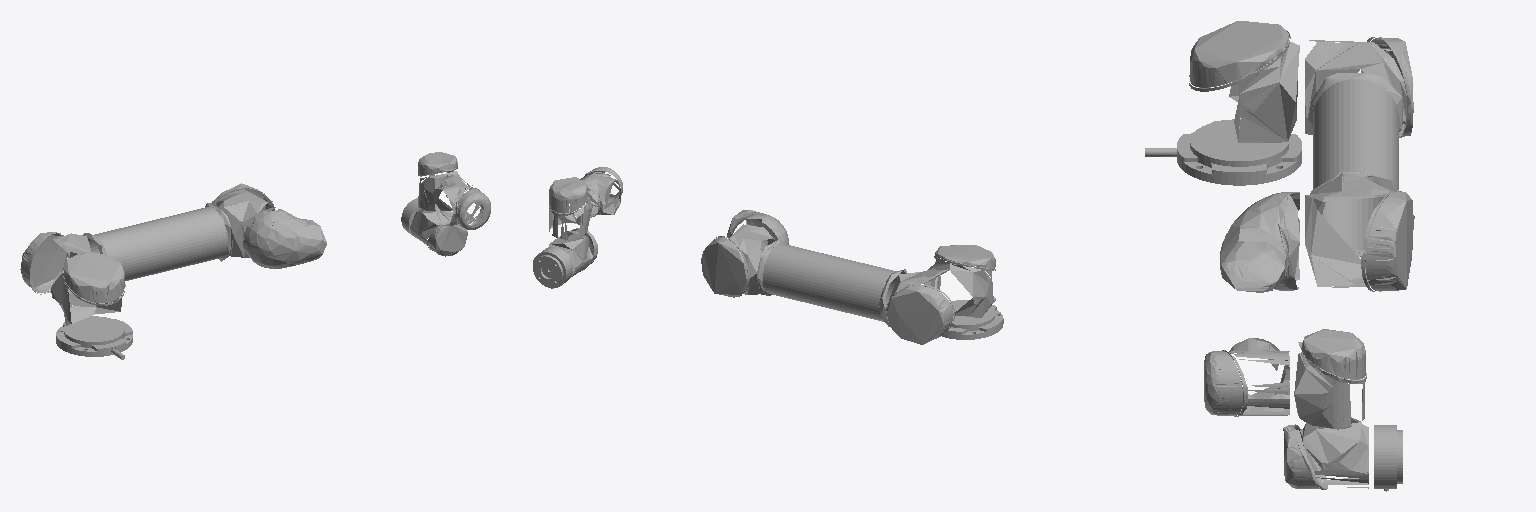
The robot description file, URDF, robot "ur5":
<?xml version="1.0" ?>
<!-- =================================================================================== -->
<!-- |    This document was autogenerated by xacro from ur5_joint_limited_robot.urdf.xacro | -->
<!-- |    EDITING THIS FILE BY HAND IS NOT RECOMMENDED                                 | -->
<!-- =================================================================================== -->
<robot name="ur5" xmlns:xacro="http://www.ros.org/wiki/xacro">
  <gazebo>
    <plugin filename="libgazebo_ros_control.so" name="ros_control">
      <!--robotNamespace>/</robotNamespace-->
      <!--robotSimType>gazebo_ros_control/DefaultRobotHWSim</robotSimType-->
    </plugin>
    <!--
    <plugin name="gazebo_ros_power_monitor_controller" filename="libgazebo_ros_power_monitor.so">
      <alwaysOn>true</alwaysOn>
      <updateRate>1.0</updateRate>
      <timeout>5</timeout>
      <powerStateTopic>power_state</powerStateTopic>
      <powerStateRate>10.0</powerStateRate>
      <fullChargeCapacity>87.78</fullChargeCapacity>     
      <dischargeRate>-474</dischargeRate>
      <chargeRate>525</chargeRate>
      <dischargeVoltage>15.52</dischargeVoltage>
      <chargeVoltage>16.41</chargeVoltage>
    </plugin>
-->
  </gazebo>
  <!-- measured from model -->
  <!--property name="shoulder_height" value="0.089159" /-->
  <!--property name="shoulder_offset" value="0.13585" /-->
  <!-- shoulder_offset - elbow_offset + wrist_1_length = 0.10915 -->
  <!--property name="upper_arm_length" value="0.42500" /-->
  <!--property name="elbow_offset" value="0.1197" /-->
  <!-- CAD measured -->
  <!--property name="forearm_length" value="0.39225" /-->
  <!--property name="wrist_1_length" value="0.093" /-->
  <!-- CAD measured -->
  <!--property name="wrist_2_length" value="0.09465" /-->
  <!-- In CAD this distance is 0.930, but in the spec it is 0.09465 -->
  <!--property name="wrist_3_length" value="0.0823" /-->
  <!-- manually measured -->
  <link name="base_link">
    <visual>
      <geometry>
        <mesh filename="package://ur5_description/meshes/ur5/visual/base.stl"/>
      </geometry>
      <material name="LightGrey">
        <color rgba="0.7 0.7 0.7 1.0"/>
      </material>
    </visual>
    <collision>
      <geometry>
        <mesh filename="package://ur5_description/meshes/ur5/collision/base.stl"/>
      </geometry>
    </collision>
    <inertial>
      <mass value="4.0"/>
      <origin rpy="0 0 0" xyz="0.0 0.0 0.0"/>
      <inertia ixx="0.00443333156" ixy="0.0" ixz="0.0" iyy="0.00443333156" iyz="0.0" izz="0.0072"/>
    </inertial>
  </link>
  <joint name="shoulder_pan_joint" type="revolute">
    <parent link="base_link"/>
    <child link="shoulder_link"/>
    <origin rpy="0.0 0.0 0.0" xyz="0.0 0.0 0.089159"/>
    <axis xyz="0 0 1"/>
    <limit effort="150.0" lower="-3.14159265359" upper="3.14159265359" velocity="3.15"/>
    <dynamics damping="0.0" friction="0.0"/>
  </joint>
  <link name="shoulder_link">
    <visual>
      <geometry>
        <mesh filename="package://ur5_description/meshes/ur5/visual/shoulder.stl"/>
      </geometry>
      <material name="LightGrey">
        <color rgba="0.7 0.7 0.7 1.0"/>
      </material>
    </visual>
    <collision>
      <geometry>
        <mesh filename="package://ur5_description/meshes/ur5/collision/shoulder.stl"/>
      </geometry>
    </collision>
    <inertial>
      <mass value="3.7"/>
      <origin rpy="0 0 0" xyz="0.0 0.0 0.0"/>
      <inertia ixx="0.010267495893" ixy="0.0" ixz="0.0" iyy="0.010267495893" iyz="0.0" izz="0.00666"/>
    </inertial>
  </link>
  <joint name="shoulder_lift_joint" type="revolute">
    <parent link="shoulder_link"/>
    <child link="upper_arm_link"/>
    <origin rpy="0.0 1.57079632679 0.0" xyz="0.0 0.13585 0.0"/>
    <axis xyz="0 1 0"/>
    <limit effort="150.0" lower="-3.14159265359" upper="3.14159265359" velocity="3.15"/>
    <dynamics damping="0.0" friction="0.0"/>
  </joint>
  <link name="upper_arm_link">
    <visual>
      <geometry>
        <mesh filename="package://ur5_description/meshes/ur5/visual/upperarm.stl"/>
      </geometry>
      <material name="LightGrey">
        <color rgba="0.7 0.7 0.7 1.0"/>
      </material>
    </visual>
    <collision>
      <geometry>
        <mesh filename="package://ur5_description/meshes/ur5/collision/upperarm.stl"/>
      </geometry>
    </collision>
    <inertial>
      <mass value="8.393"/>
      <origin rpy="0 0 0" xyz="0.0 0.0 0.28"/>
      <inertia ixx="0.22689067591" ixy="0.0" ixz="0.0" iyy="0.22689067591" iyz="0.0" izz="0.0151074"/>
    </inertial>
  </link>
  <joint name="elbow_joint" type="revolute">
    <parent link="upper_arm_link"/>
    <child link="forearm_link"/>
    <origin rpy="0.0 0.0 0.0" xyz="0.0 -0.1197 0.425"/>
    <axis xyz="0 1 0"/>
    <limit effort="150.0" lower="-3.14159265359" upper="3.14159265359" velocity="3.15"/>
    <dynamics damping="0.0" friction="0.0"/>
  </joint>
  <link name="forearm_link">
    <visual>
      <geometry>
        <mesh filename="package://ur5_description/meshes/ur5/visual/forearm.stl"/>
      </geometry>
      <material name="LightGrey">
        <color rgba="0.7 0.7 0.7 1.0"/>
      </material>
    </visual>
    <collision>
      <geometry>
        <mesh filename="package://ur5_description/meshes/ur5/collision/forearm.stl"/>
      </geometry>
    </collision>
    <inertial>
      <mass value="2.275"/>
      <origin rpy="0 0 0" xyz="0.0 0.0 0.25"/>
      <inertia ixx="0.049443313556" ixy="0.0" ixz="0.0" iyy="0.049443313556" iyz="0.0" izz="0.004095"/>
    </inertial>
  </link>
  <joint name="wrist_1_joint" type="revolute">
    <parent link="forearm_link"/>
    <child link="wrist_1_link"/>
    <origin rpy="0.0 1.57079632679 0.0" xyz="0.0 0.0 0.39225"/>
    <axis xyz="0 1 0"/>
    <limit effort="28.0" lower="-3.14159265359" upper="3.14159265359" velocity="3.2"/>
    <dynamics damping="0.0" friction="0.0"/>
  </joint>
  <link name="wrist_1_link">
    <visual>
      <geometry>
        <mesh filename="package://ur5_description/meshes/ur5/visual/wrist1.stl"/>
      </geometry>
      <material name="LightGrey">
        <color rgba="0.7 0.7 0.7 1.0"/>
      </material>
    </visual>
    <collision>
      <geometry>
        <mesh filename="package://ur5_description/meshes/ur5/collision/wrist1.stl"/>
      </geometry>
    </collision>
    <inertial>
      <mass value="1.219"/>
      <origin rpy="0 0 0" xyz="0.0 0.0 0.0"/>
      <inertia ixx="0.111172755531" ixy="0.0" ixz="0.0" iyy="0.111172755531" iyz="0.0" izz="0.21942"/>
    </inertial>
  </link>
  <joint name="wrist_2_joint" type="revolute">
    <parent link="wrist_1_link"/>
    <child link="wrist_2_link"/>
    <origin rpy="0.0 0.0 0.0" xyz="0.0 0.093 0.0"/>
    <axis xyz="0 0 1"/>
    <limit effort="28.0" lower="-3.14159265359" upper="3.14159265359" velocity="3.2"/>
    <dynamics damping="0.0" friction="0.0"/>
  </joint>
  <link name="wrist_2_link">
    <visual>
      <geometry>
        <mesh filename="package://ur5_description/meshes/ur5/visual/wrist2.stl"/>
      </geometry>
      <material name="LightGrey">
        <color rgba="0.7 0.7 0.7 1.0"/>
      </material>
    </visual>
    <collision>
      <geometry>
        <mesh filename="package://ur5_description/meshes/ur5/collision/wrist2.stl"/>
      </geometry>
    </collision>
    <inertial>
      <mass value="1.219"/>
      <origin rpy="0 0 0" xyz="0.0 0.0 0.0"/>
      <inertia ixx="0.111172755531" ixy="0.0" ixz="0.0" iyy="0.111172755531" iyz="0.0" izz="0.21942"/>
    </inertial>
  </link>
  <joint name="wrist_3_joint" type="revolute">
    <parent link="wrist_2_link"/>
    <child link="wrist_3_link"/>
    <origin rpy="0.0 0.0 0.0" xyz="0.0 0.0 0.09465"/>
    <axis xyz="0 1 0"/>
    <limit effort="28.0" lower="-3.14159265359" upper="3.14159265359" velocity="3.2"/>
    <dynamics damping="0.0" friction="0.0"/>
  </joint>
  <link name="wrist_3_link">
    <visual>
      <geometry>
        <mesh filename="package://ur5_description/meshes/ur5/visual/wrist3.stl"/>
      </geometry>
      <material name="LightGrey">
        <color rgba="0.7 0.7 0.7 1.0"/>
      </material>
    </visual>
    <collision>
      <geometry>
        <mesh filename="package://ur5_description/meshes/ur5/collision/wrist3.stl"/>
      </geometry>
    </collision>
    <inertial>
      <mass value="0.1879"/>
      <origin rpy="0 0 0" xyz="0.0 0.0 0.0"/>
      <inertia ixx="0.0171364731454" ixy="0.0" ixz="0.0" iyy="0.0171364731454" iyz="0.0" izz="0.033822"/>
    </inertial>
  </link>
  <joint name="ee_fixed_joint" type="fixed">
    <parent link="wrist_3_link"/>
    <child link="ee_link"/>
    <origin rpy="0.0 0.0 1.57079632679" xyz="0.0 0.0823 0.0"/>
  </joint>
  <link name="ee_link">
    <collision>
      <geometry>
        <box size="0.01 0.01 0.01"/>
      </geometry>
      <origin rpy="0 0 0" xyz="-0.01 0 0"/>
    </collision>
  </link>
  <transmission name="shoulder_pan_trans">
    <type>transmission_interface/SimpleTransmission</type>
    <joint name="shoulder_pan_joint">
      <hardwareInterface>PositionJointInterface</hardwareInterface>
    </joint>
    <actuator name="shoulder_pan_motor">
      <mechanicalReduction>1</mechanicalReduction>
    </actuator>
  </transmission>
  <transmission name="shoulder_lift_trans">
    <type>transmission_interface/SimpleTransmission</type>
    <joint name="shoulder_lift_joint">
      <hardwareInterface>PositionJointInterface</hardwareInterface>
    </joint>
    <actuator name="shoulder_lift_motor">
      <mechanicalReduction>1</mechanicalReduction>
    </actuator>
  </transmission>
  <transmission name="elbow_trans">
    <type>transmission_interface/SimpleTransmission</type>
    <joint name="elbow_joint">
      <hardwareInterface>PositionJointInterface</hardwareInterface>
    </joint>
    <actuator name="elbow_motor">
      <mechanicalReduction>1</mechanicalReduction>
    </actuator>
  </transmission>
  <transmission name="wrist_1_trans">
    <type>transmission_interface/SimpleTransmission</type>
    <joint name="wrist_1_joint">
      <hardwareInterface>PositionJointInterface</hardwareInterface>
    </joint>
    <actuator name="wrist_1_motor">
      <mechanicalReduction>1</mechanicalReduction>
    </actuator>
  </transmission>
  <transmission name="wrist_2_trans">
    <type>transmission_interface/SimpleTransmission</type>
    <joint name="wrist_2_joint">
      <hardwareInterface>PositionJointInterface</hardwareInterface>
    </joint>
    <actuator name="wrist_2_motor">
      <mechanicalReduction>1</mechanicalReduction>
    </actuator>
  </transmission>
  <transmission name="wrist_3_trans">
    <type>transmission_interface/SimpleTransmission</type>
    <joint name="wrist_3_joint">
      <hardwareInterface>PositionJointInterface</hardwareInterface>
    </joint>
    <actuator name="wrist_3_motor">
      <mechanicalReduction>1</mechanicalReduction>
    </actuator>
  </transmission>
  <!-- nothing to do here at the moment -->
  <!-- ROS base_link to UR 'Base' Coordinates transform -->
  <link name="base"/>
  <joint name="base_link-base_fixed_joint" type="fixed">
    <!-- NOTE: this rotation is only needed as long as base_link itself is
                 not corrected wrt the real robot (ie: rotated over 180
                 degrees)
      -->
    <origin rpy="0 0 -3.14159265359" xyz="0 0 0"/>
    <parent link="base_link"/>
    <child link="base"/>
  </joint>
  <!-- Frame coincident with all-zeros TCP on UR controller -->
  <link name="tool0"/>
  <joint name="wrist_3_link-tool0_fixed_joint" type="fixed">
    <origin rpy="-1.57079632679 0 0" xyz="0 0.0823 0"/>
    <parent link="wrist_3_link"/>
    <child link="tool0"/>
  </joint>
  <link name="world"/>
  <joint name="world_joint" type="fixed">
    <parent link="world"/>
    <child link="base_link"/>
    <origin rpy="0.0 0.0 0.0" xyz="0.0 0.0 0.0"/>
  </joint>
</robot>

--- Facts derived from the render (not from the file) ---
3 views of the same robot in one strip: view 1: azimuth 30°, elevation 25°; view 2: azimuth 150°, elevation 25°; view 3: azimuth 270°, elevation 25° (orthographic).
Model ur5 with 11 links and 10 joints (6 revolute, 4 fixed), rooted at world, posed all joints at 0.
Visible links, largest first — view 1: upper_arm_link, forearm_link, shoulder_link, base_link, wrist_2_link, wrist_1_link; view 2: upper_arm_link, shoulder_link, forearm_link, wrist_1_link, base_link, wrist_3_link, wrist_2_link; view 3: upper_arm_link, forearm_link, shoulder_link, base_link, wrist_1_link, wrist_2_link, wrist_3_link.
Boxes of the visible links, x1,y1,x2,y2 form: upper_arm_link: (20,183,274,304); forearm_link: (243,175,490,268); shoulder_link: (51,252,125,325); base_link: (56,316,132,359); wrist_2_link: (410,209,467,256); wrist_1_link: (418,152,465,211); upper_arm_link: (701,224,954,344); shoulder_link: (924,245,995,317); forearm_link: (569,167,788,270); wrist_1_link: (549,177,592,239); base_link: (941,297,1003,339); wrist_3_link: (533,247,572,288); wrist_2_link: (548,228,597,276); upper_arm_link: (1305,37,1414,291); forearm_link: (1204,192,1299,416); shoulder_link: (1189,21,1299,147); base_link: (1145,119,1301,185); wrist_1_link: (1294,329,1366,429); wrist_2_link: (1283,417,1368,489); wrist_3_link: (1374,425,1402,491).
Size in the robot's own frame: 0.9295 by 0.3143 by 0.206 metres.
Meshes: 7 distinct files referenced, 7 mesh visuals loaded (7 binary STL).
